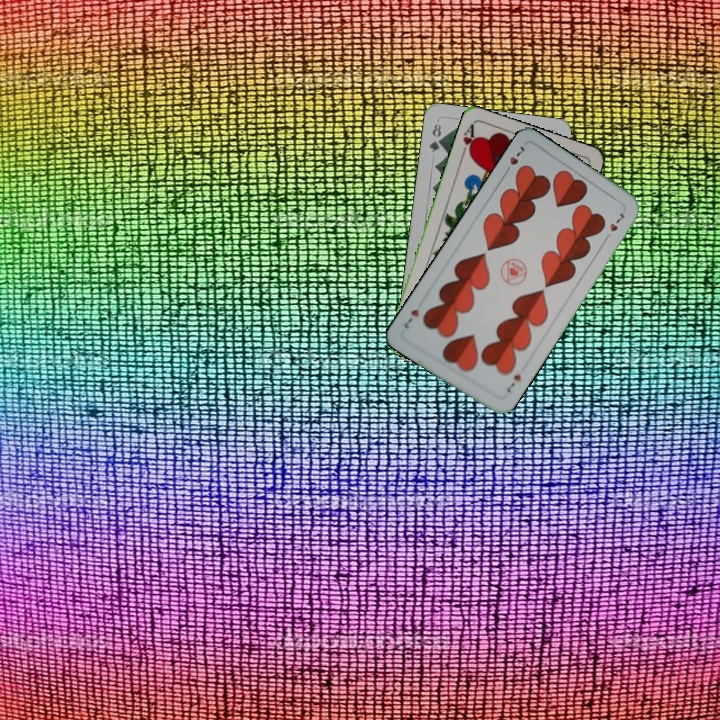G8: (425, 120, 444, 155)
H7: (500, 142, 527, 177), (503, 370, 524, 395)
HA: (457, 120, 479, 160)
